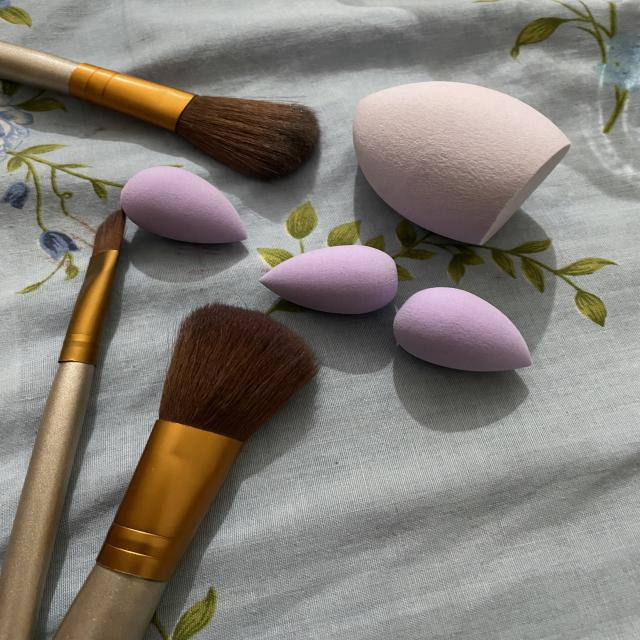beauty blender: (342, 72, 589, 253), (382, 283, 539, 385), (119, 156, 259, 262), (254, 239, 406, 327)
brush: (110, 297, 327, 640), (0, 20, 327, 183), (0, 207, 132, 472)
